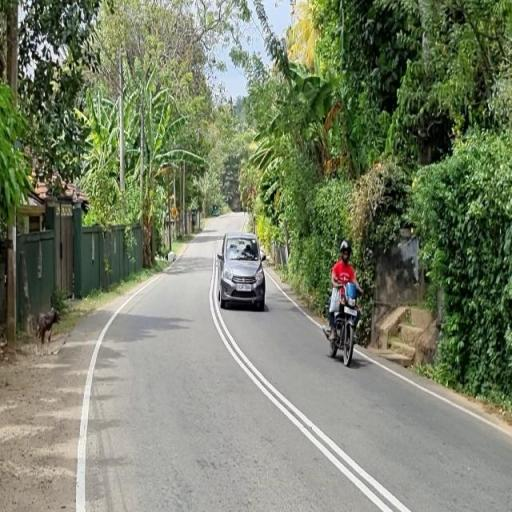double_white_line: (208, 273, 410, 512)
